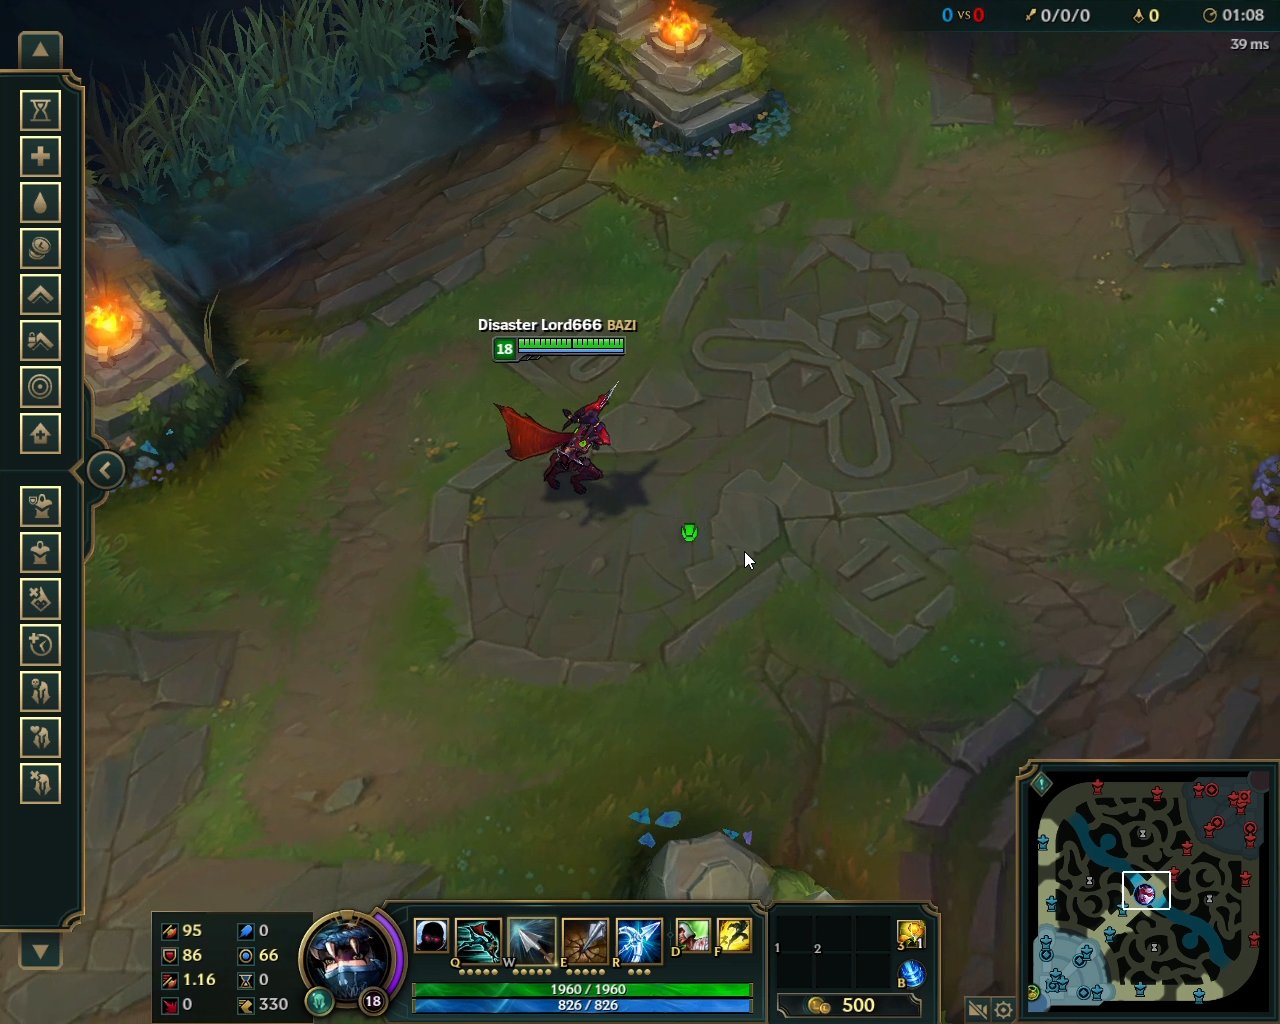Vayne: (490, 378, 627, 502)
